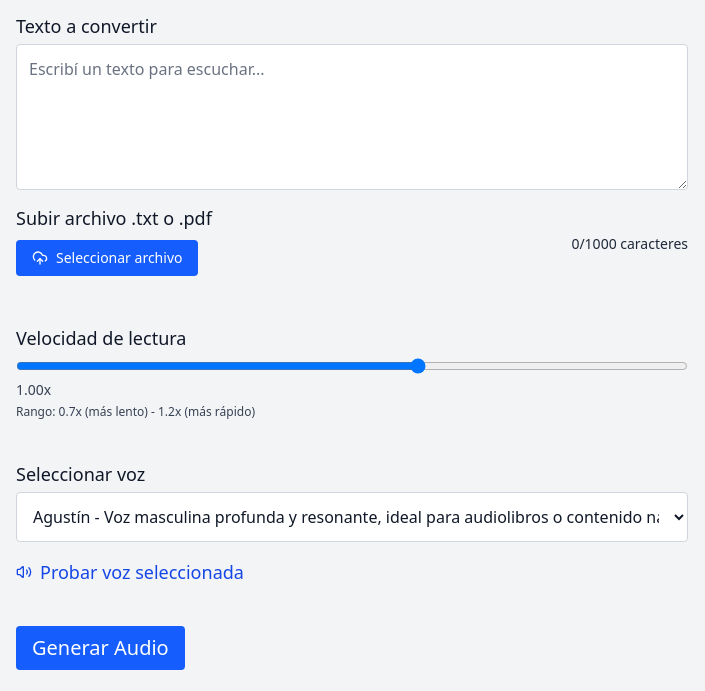
Test: TTSForm › muestra error si se envía el formulario vacío
This screenshot has width=705, height=691.
Click the button "Generar Audio" at (100, 648), box [16,626,185,670]
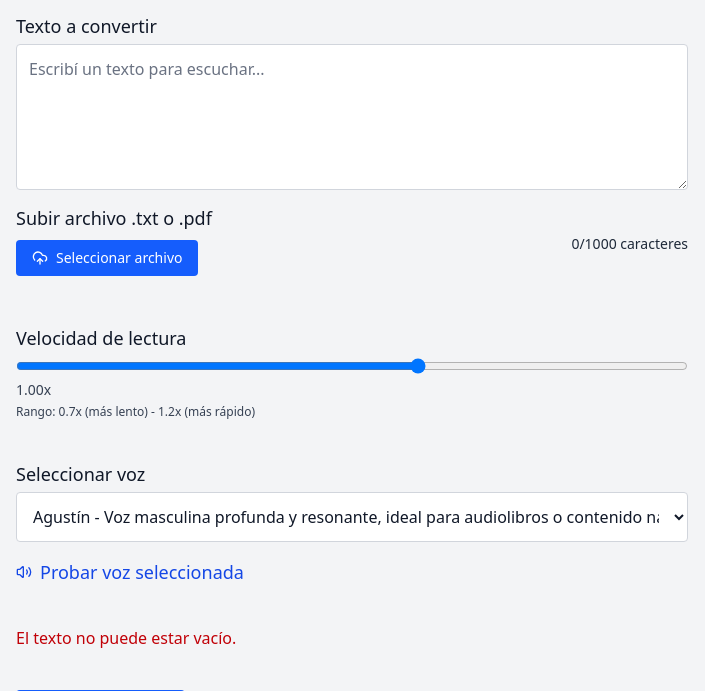
Now the message reads "El texto no puede estar vacío.", box [16,627,236,649]
